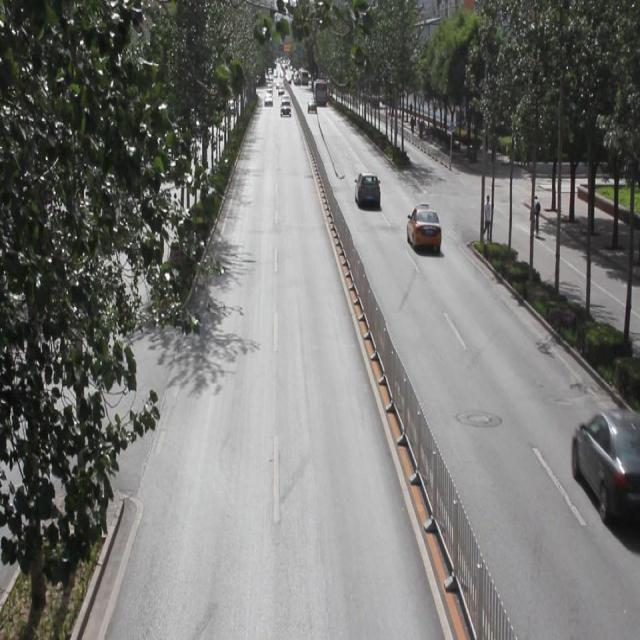car: (570, 403, 640, 522), (404, 202, 440, 252), (354, 168, 381, 210)
